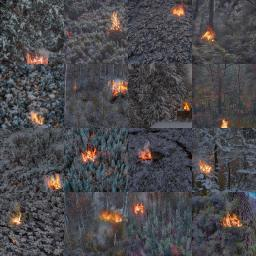Small fire: (22, 52, 53, 66), (80, 145, 102, 163), (5, 210, 26, 228), (45, 171, 64, 190), (111, 78, 127, 100), (100, 210, 121, 225), (138, 144, 153, 162), (171, 1, 184, 18), (108, 11, 119, 31), (30, 111, 44, 126)
